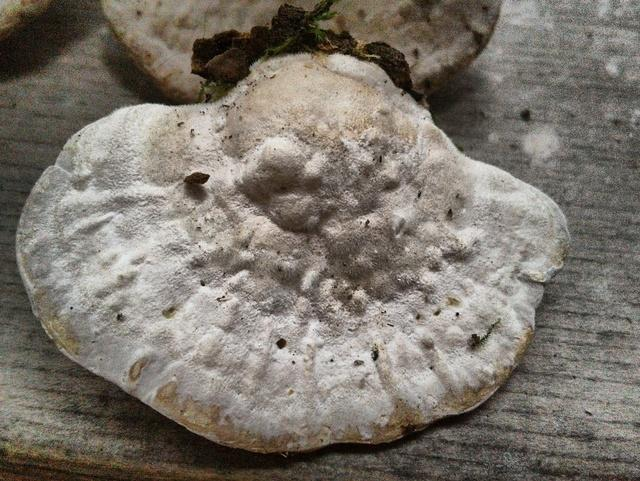Non-edible Mushroom: (14, 42, 571, 455)
